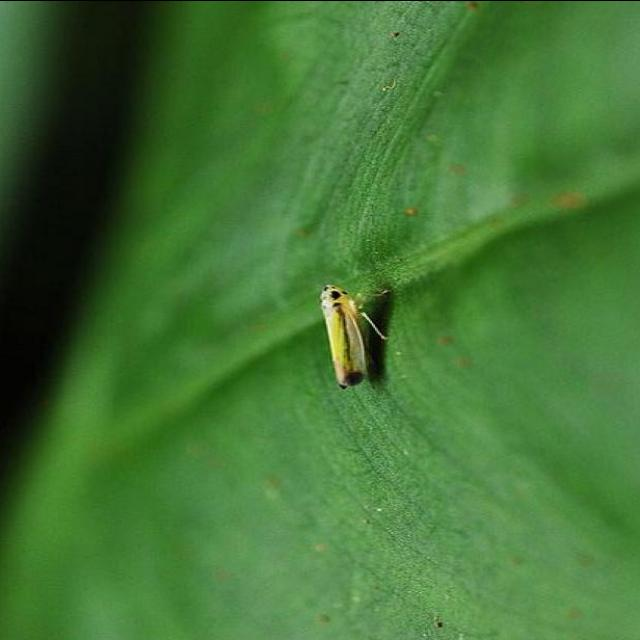green leaf hopper: (320, 285, 390, 390)
